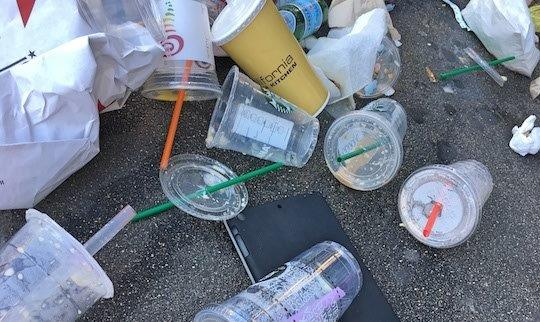sedotan: (9, 205, 137, 313), (132, 161, 282, 221), (253, 251, 343, 312), (160, 59, 192, 169), (284, 289, 347, 322), (441, 56, 515, 79), (425, 180, 449, 236), (337, 137, 392, 161)
